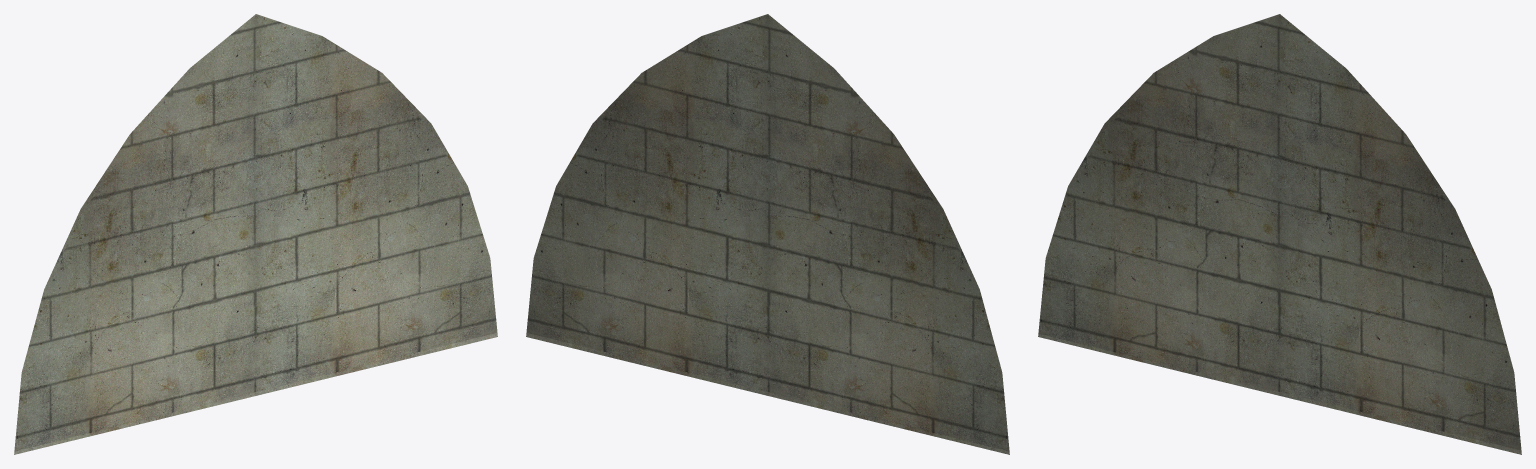
File: Tapadera Ventana con Textura.fbx
The picture shows the model from 3 angles, left to right: view 1: azimuth 30°, elevation 25°; view 2: azimuth 150°, elevation 25°; view 3: azimuth 330°, elevation 25°; orthographic projection.
Visible parts, largest first — view 1: Window; view 2: Window; view 3: Window.
Part boxes in pixels (left/top/right/bottom): Window: left=14, top=14, right=497, bottom=454; Window: left=526, top=14, right=1009, bottom=454; Window: left=1038, top=14, right=1521, bottom=454.
Size of the model in its own units: 122 by 92.39 by 2.45e-06.
